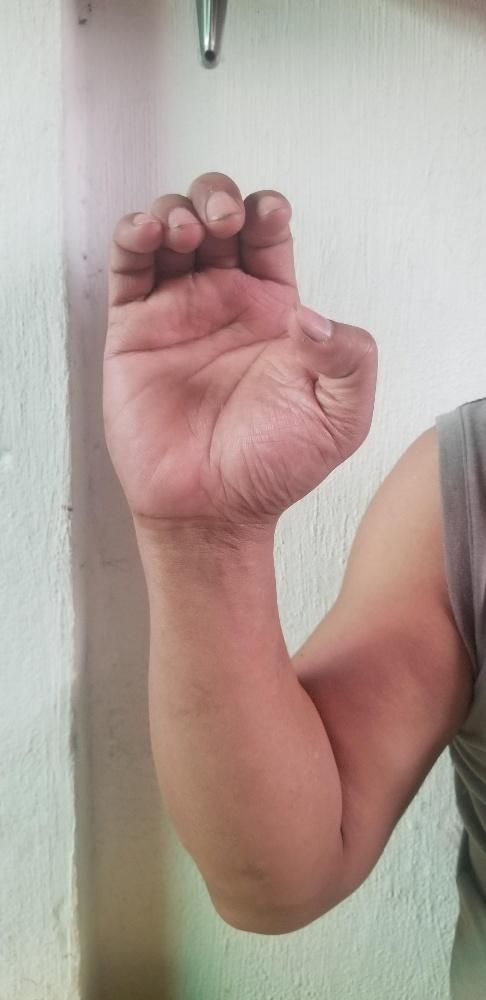e: (99, 170, 377, 518)
